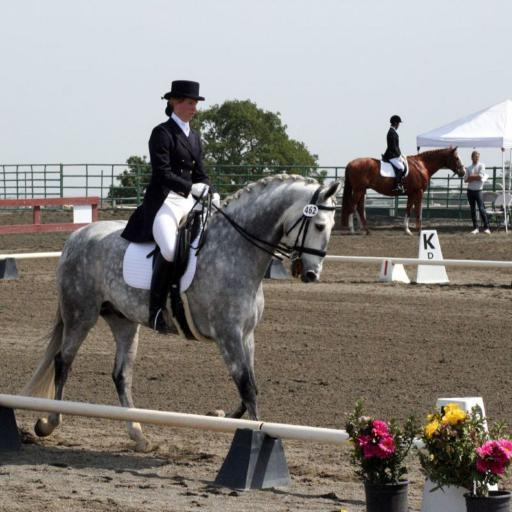horse: (10, 174, 342, 458), (342, 144, 466, 237)
